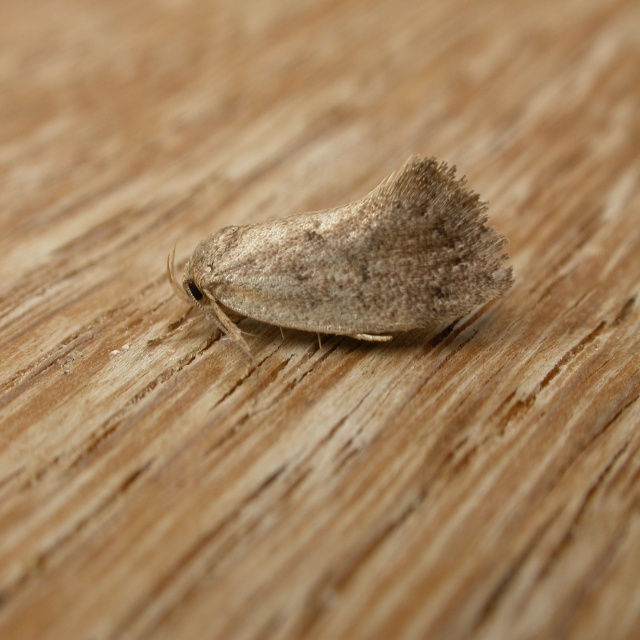Moths and butterflies: (164, 148, 515, 410)
